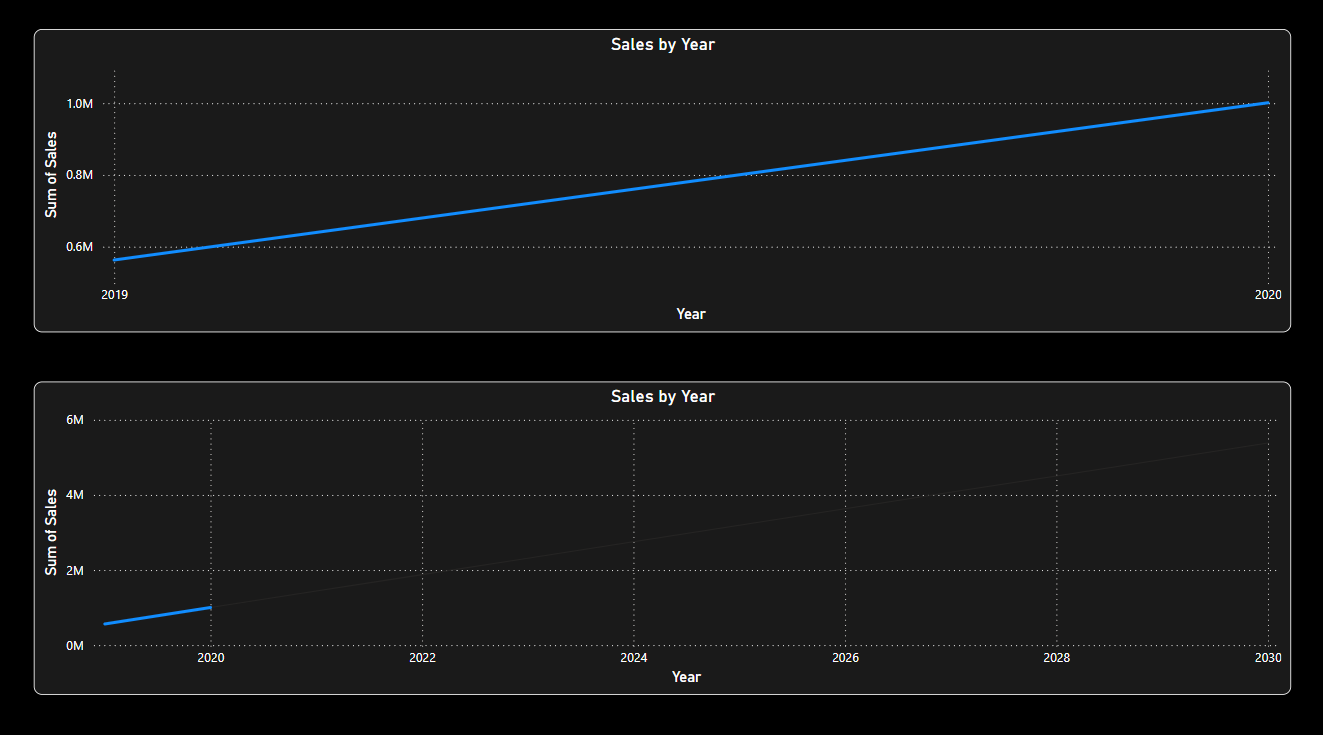

What the dashboard file says about the page in this screenshot:
{"tool":"powerbi","page":{"name":"Page 2","canvas":[1280,720],"ordinal":1},"visuals":[{"type":"lineChart","title":"Sales by Year","fields":{"Category":["Sheet1.Order Date.Variation.Date Hierarchy.Year","Sheet1.Order Date.Variation.Date Hierarchy.Quarter","Sheet1.Order Date.Variation.Date Hierarchy.Month","Sheet1.Order Date.Variation.Date Hierarchy.Day"],"Y":["Sum(Sheet1.Sales)"]},"box":[32.9,34.1,1213.4,292.7],"z":0},{"type":"lineChart","title":"Sales by Year","fields":{"Category":["Sheet1.Order Date.Variation.Date Hierarchy.Year","Sheet1.Order Date.Variation.Date Hierarchy.Quarter","Sheet1.Order Date.Variation.Date Hierarchy.Month","Sheet1.Order Date.Variation.Date Hierarchy.Day"],"Y":["Sum(Sheet1.Sales)"]},"box":[32.9,374.4,1213.4,302.4],"z":1}]}

Visuals, with their boxes in screenshot pixels (x1, y1, x2, y2), scaled from the page's 1280x720 canvas onto the 1323x735 screenshot:
"Sales by Year" lineChart: bbox=(34, 35, 1288, 334)
"Sales by Year" lineChart: bbox=(34, 382, 1288, 691)
